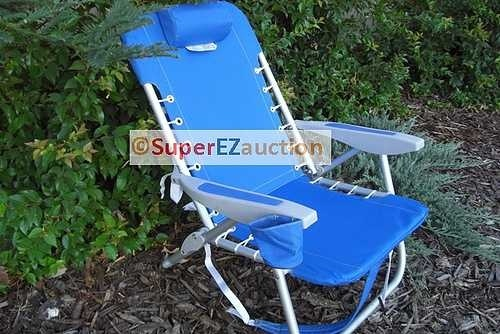obstacle: (122, 2, 427, 332)
